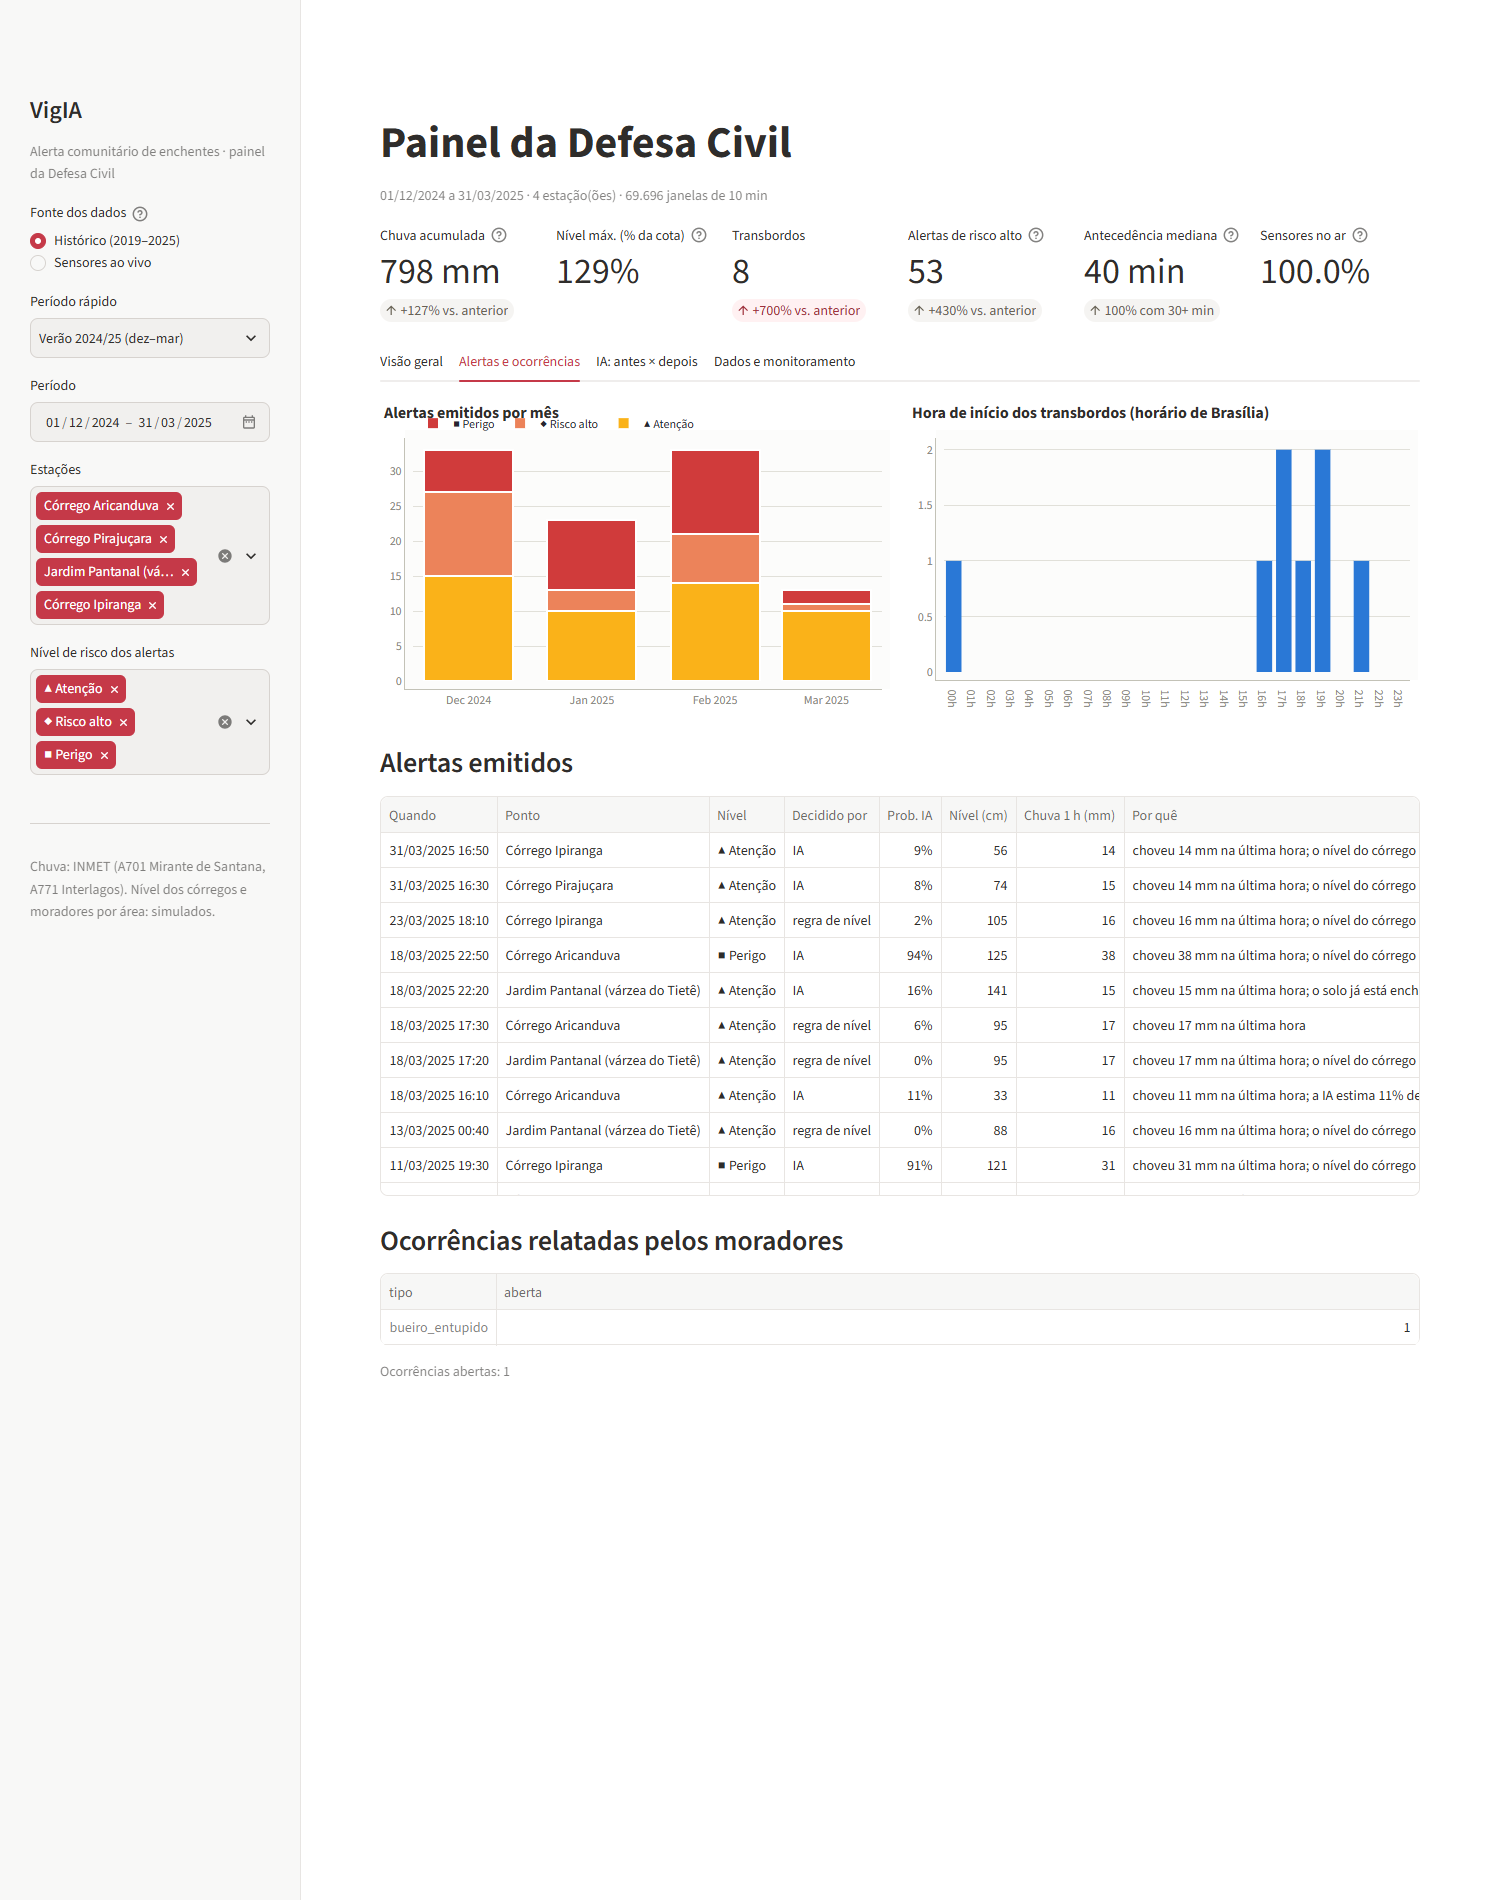

What the dashboard file says about the page in this screenshot:
{"tool":"powerbi","page":{"name":"Página 1","canvas":[1920,1080],"ordinal":0},"visuals":[{"type":"htmlContent443BE3AD55E043BF878BED274D3A6855","fields":{"content":["Medidas.VigIA Painel HTML"]},"box":[0,0,1920,1079.6],"z":0},{"type":"slicer","fields":{"Values":["dim_data.data"]},"box":[42.3,134.2,300.5,52.5],"z":1},{"type":"slicer","fields":{"Values":["dim_estacao.nome"]},"box":[367.7,137.1,356,52.5],"z":2}]}

Visuals, with their boxes on the page's 1920x1080 design canvas (x1, y1, x2, y2). These are canvas units, not pixel positions in the 1500x1900 screenshot, which may show the page scaled, cropped or inside an application window:
htmlContent443BE3AD55E043BF878BED274D3A6855 - Medidas.VigIA Painel HTML: [x1=0, y1=0, x2=1920, y2=1080]
slicer - dim_data.data: [x1=42, y1=134, x2=343, y2=187]
slicer - dim_estacao.nome: [x1=368, y1=137, x2=724, y2=190]
